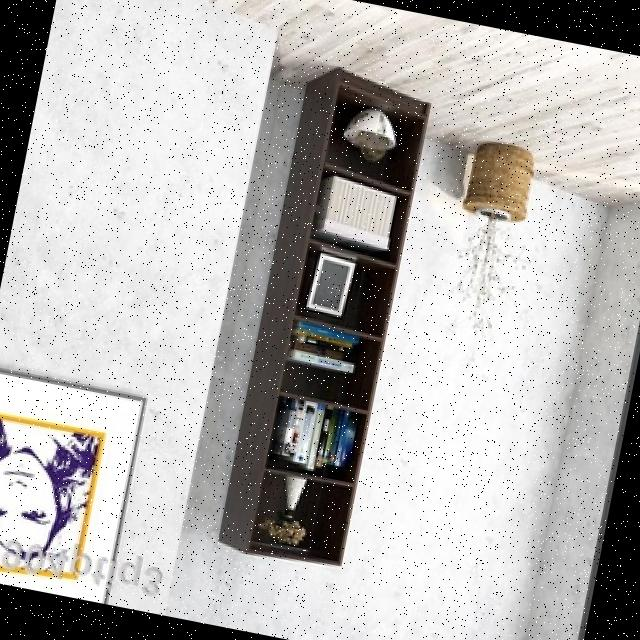Shelf: (207, 48, 454, 583)
